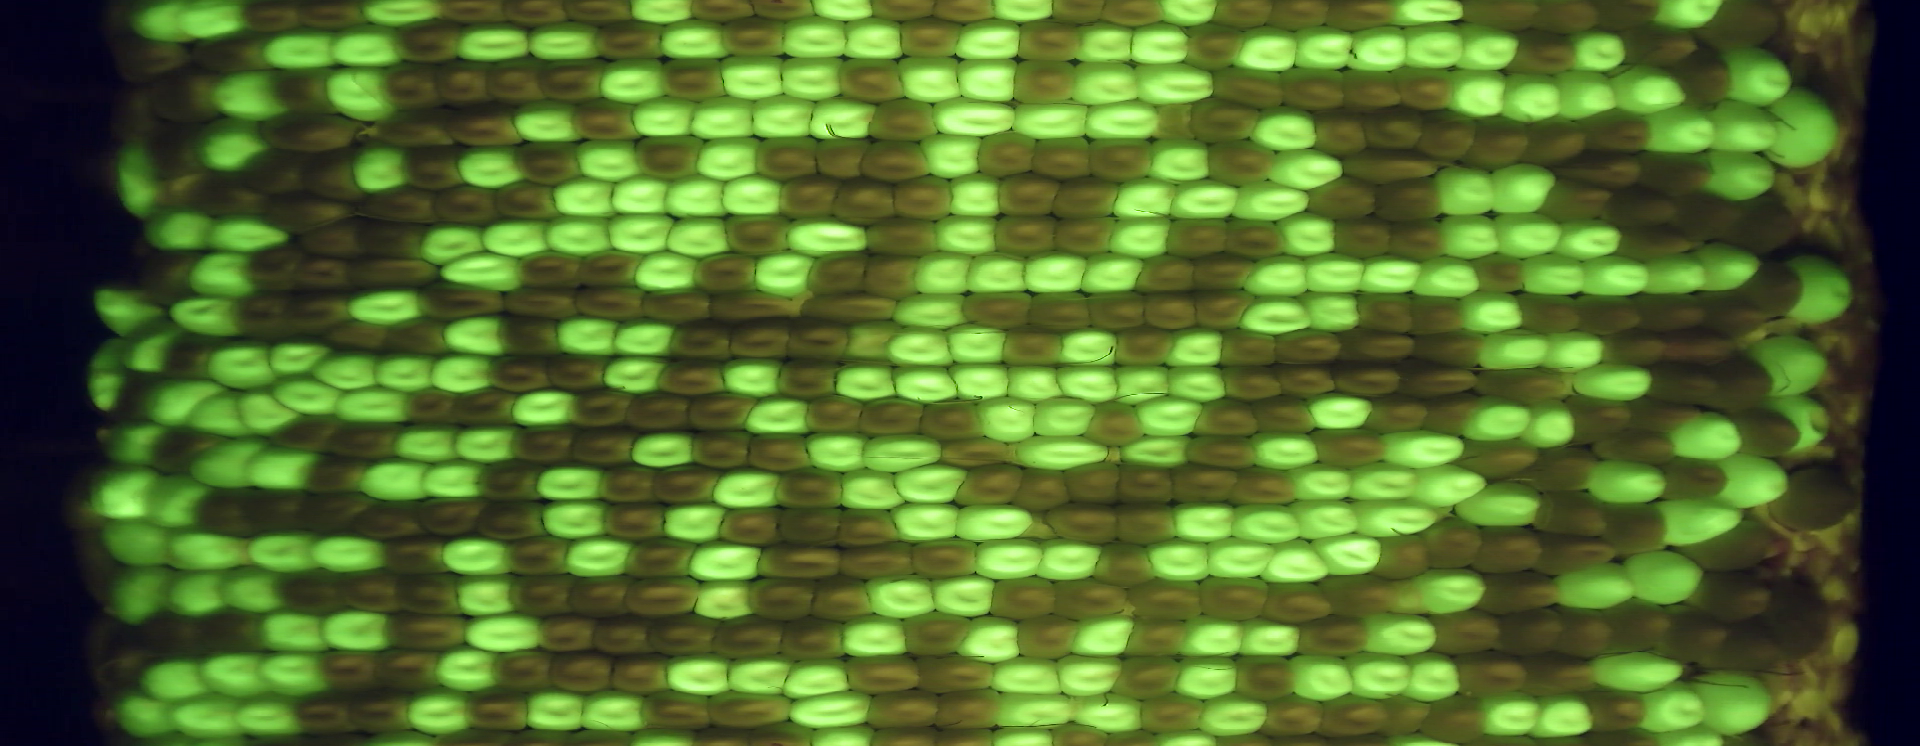fluorescent: (1762, 82, 1844, 176), (1778, 249, 1864, 336), (1615, 543, 1711, 612), (1685, 665, 1777, 737), (1586, 641, 1695, 701), (1741, 331, 1833, 401), (1649, 489, 1749, 551), (100, 557, 184, 630), (1548, 556, 1643, 619), (80, 277, 173, 341), (1664, 405, 1753, 472), (1581, 451, 1676, 512), (186, 430, 274, 496), (83, 459, 167, 529), (107, 137, 171, 225), (1709, 450, 1798, 514), (135, 367, 224, 430), (135, 465, 212, 537), (157, 523, 257, 577), (320, 62, 403, 127), (191, 111, 274, 176), (1605, 58, 1689, 122), (1451, 479, 1549, 534), (208, 64, 295, 125), (459, 604, 553, 660), (165, 686, 253, 746), (201, 334, 285, 397), (400, 679, 485, 741), (211, 561, 300, 620), (1706, 91, 1787, 156), (1716, 47, 1798, 110), (1638, 100, 1725, 160), (190, 648, 280, 706), (1356, 608, 1446, 665), (1373, 423, 1473, 474), (1347, 492, 1447, 544), (313, 603, 404, 659), (430, 246, 531, 296), (1631, 677, 1714, 739), (324, 379, 419, 432), (94, 514, 182, 572), (227, 688, 318, 744), (105, 685, 191, 744), (1764, 390, 1838, 458), (779, 684, 880, 733), (98, 412, 178, 474), (774, 648, 855, 709), (1702, 145, 1783, 206), (1457, 388, 1538, 450), (113, 314, 189, 379), (984, 649, 1074, 704), (504, 91, 587, 151), (860, 426, 953, 479), (1408, 458, 1491, 517), (1438, 62, 1517, 124), (658, 647, 742, 704), (1011, 430, 1116, 477), (1286, 20, 1368, 78), (178, 380, 255, 442), (242, 443, 329, 499), (260, 22, 344, 78), (951, 612, 1036, 669), (876, 318, 964, 372), (200, 209, 296, 258), (1129, 59, 1221, 110), (1409, 562, 1491, 620), (1487, 205, 1570, 261), (324, 20, 411, 73), (1223, 20, 1308, 75), (1485, 159, 1561, 220), (1427, 162, 1504, 222), (1283, 649, 1360, 709), (182, 247, 264, 304), (253, 646, 336, 702), (779, 212, 876, 260), (435, 309, 520, 363), (860, 570, 945, 624), (135, 652, 220, 706), (1062, 688, 1156, 737), (1342, 647, 1420, 706), (356, 452, 436, 510), (1450, 16, 1524, 77), (1691, 238, 1767, 298), (682, 533, 767, 587), (437, 530, 522, 584), (305, 529, 396, 579), (1244, 100, 1326, 156), (1081, 96, 1167, 148), (163, 292, 249, 344), (160, 563, 239, 621), (431, 638, 504, 699), (984, 687, 1084, 733), (135, 202, 222, 254), (252, 606, 339, 658), (229, 380, 305, 439), (1341, 20, 1417, 78), (534, 492, 615, 548), (574, 684, 655, 739), (1515, 247, 1596, 303), (884, 289, 980, 336), (1224, 179, 1318, 227), (1068, 58, 1150, 111), (1060, 610, 1142, 664), (1496, 69, 1571, 127), (595, 51, 675, 107), (452, 141, 535, 194), (545, 310, 628, 363), (80, 333, 132, 416), (950, 500, 1040, 549), (894, 51, 970, 109), (949, 54, 1025, 111), (1282, 492, 1369, 543), (713, 169, 793, 223), (887, 496, 967, 550), (970, 532, 1051, 586), (1049, 649, 1130, 703), (1471, 326, 1555, 377), (1569, 359, 1662, 405), (1163, 495, 1245, 548), (715, 51, 795, 105), (802, 91, 882, 145), (410, 219, 493, 271), (776, 51, 852, 108), (928, 93, 1022, 138), (1140, 534, 1217, 589), (572, 134, 650, 187), (1173, 609, 1251, 663), (242, 528, 324, 579), (1264, 145, 1349, 194), (776, 10, 856, 62), (560, 530, 639, 583), (549, 170, 624, 225), (522, 17, 605, 67), (888, 459, 971, 510), (1227, 499, 1310, 549), (1435, 207, 1506, 266), (684, 92, 765, 143), (689, 131, 767, 185), (704, 465, 785, 517), (1029, 534, 1109, 586), (1238, 249, 1315, 303), (1144, 132, 1217, 189), (392, 416, 470, 469), (1247, 424, 1325, 477), (1553, 65, 1620, 126), (478, 213, 560, 263), (340, 282, 429, 328), (538, 211, 623, 258), (931, 209, 1008, 262), (1164, 175, 1245, 225), (1575, 252, 1656, 303), (1200, 533, 1281, 583), (448, 20, 538, 65), (1009, 99, 1098, 145), (348, 138, 415, 198), (1400, 646, 1467, 706), (1516, 397, 1584, 456), (1344, 454, 1423, 506), (627, 89, 702, 143), (451, 568, 525, 622), (1548, 212, 1630, 261), (1019, 245, 1095, 298), (309, 345, 384, 398), (800, 426, 876, 479), (122, 1, 202, 51), (1166, 650, 1245, 701), (1195, 691, 1275, 741), (1114, 426, 1202, 472), (1400, 15, 1464, 76), (629, 246, 707, 298), (1104, 174, 1183, 224), (662, 212, 741, 262), (606, 312, 684, 363), (421, 349, 500, 399), (1637, 249, 1716, 299), (831, 314, 906, 366), (1527, 688, 1602, 741), (748, 89, 819, 145), (924, 570, 1000, 621), (885, 360, 965, 409), (916, 129, 988, 183), (909, 245, 981, 299), (1071, 247, 1149, 298), (661, 171, 738, 222), (1025, 391, 1102, 441), (1353, 249, 1430, 299), (1298, 249, 1375, 299), (948, 13, 1021, 66), (606, 169, 680, 222), (1236, 292, 1316, 339), (1284, 459, 1365, 507), (1270, 207, 1344, 258), (602, 209, 681, 258), (262, 334, 340, 383), (1309, 530, 1387, 579), (1236, 611, 1307, 665), (531, 458, 613, 505), (598, 349, 673, 399), (369, 348, 444, 398), (271, 371, 347, 421), (1104, 212, 1177, 265), (749, 246, 822, 299), (655, 15, 735, 62), (624, 424, 704, 472), (1303, 387, 1382, 435), (1054, 323, 1128, 375), (1051, 360, 1128, 409), (451, 418, 528, 467), (1411, 254, 1488, 303), (1261, 537, 1335, 588), (1455, 285, 1524, 339), (940, 318, 1015, 369), (834, 465, 909, 516), (509, 385, 588, 432), (1131, 392, 1210, 440), (1125, 17, 1191, 73), (959, 247, 1035, 296), (945, 356, 1021, 405), (722, 648, 795, 699), (1476, 687, 1548, 739), (970, 391, 1037, 446), (742, 393, 822, 440), (519, 684, 588, 737), (829, 355, 902, 405), (1537, 327, 1611, 376), (1002, 359, 1074, 409), (716, 353, 791, 401), (658, 501, 733, 548), (415, 454, 489, 502), (691, 575, 760, 625), (838, 612, 912, 659), (1109, 360, 1177, 412), (1297, 285, 1365, 336), (944, 169, 1007, 224), (1564, 23, 1626, 78), (840, 12, 907, 62), (175, 1, 249, 47), (1158, 361, 1233, 405), (1071, 20, 1136, 69), (1161, 321, 1227, 369), (358, 1, 448, 31), (1651, 1, 1729, 34), (1389, 1, 1476, 31), (623, 1, 697, 29), (1155, 1, 1227, 29), (986, 1, 1060, 28), (802, 1, 879, 24)
nonfluorescent: (1763, 463, 1865, 537), (1758, 570, 1836, 666), (1675, 516, 1790, 578), (144, 119, 216, 209), (255, 105, 369, 159), (1329, 141, 1450, 190), (360, 100, 465, 157), (1720, 191, 1807, 257), (1589, 499, 1678, 563), (264, 563, 359, 624), (1120, 567, 1211, 628), (1689, 566, 1779, 627), (253, 189, 364, 239), (1526, 527, 1621, 584), (59, 528, 127, 608), (1600, 593, 1680, 661), (100, 33, 197, 89), (144, 64, 229, 127), (129, 246, 213, 310), (408, 276, 514, 326), (1569, 103, 1659, 162), (1704, 349, 1780, 419), (1702, 619, 1788, 680), (376, 608, 478, 659), (1652, 601, 1734, 665), (1667, 185, 1749, 249), (1442, 648, 1533, 706), (440, 99, 535, 153), (389, 567, 475, 627), (1735, 254, 1809, 323), (1631, 146, 1722, 202), (1460, 111, 1538, 176), (640, 609, 729, 666), (184, 168, 276, 223), (1611, 18, 1703, 73), (1663, 39, 1735, 109), (189, 605, 276, 663), (1559, 390, 1642, 450), (1309, 570, 1400, 625), (1594, 180, 1685, 235), (702, 686, 801, 736), (1298, 421, 1397, 472), (339, 250, 446, 296), (141, 424, 230, 479), (181, 29, 279, 80), (1476, 566, 1569, 619), (793, 285, 904, 330), (353, 179, 447, 230), (1009, 609, 1090, 669), (1199, 135, 1284, 191), (1227, 646, 1304, 708), (1700, 1, 1789, 55), (1728, 401, 1806, 462), (1391, 356, 1489, 405), (707, 610, 790, 668), (129, 606, 212, 664), (290, 486, 377, 541), (909, 650, 999, 703), (1531, 485, 1615, 541), (185, 480, 262, 541), (375, 530, 460, 586), (1452, 435, 1544, 486), (824, 171, 906, 229), (948, 459, 1030, 517), (1515, 113, 1597, 170), (780, 311, 858, 371), (1384, 61, 1462, 121), (1468, 365, 1575, 409), (620, 568, 703, 625), (376, 311, 463, 365), (1406, 105, 1480, 168), (1548, 147, 1651, 192), (804, 571, 885, 628), (773, 500, 855, 556), (425, 176, 511, 230), (634, 684, 720, 737), (1520, 648, 1605, 702), (1551, 599, 1620, 666), (749, 538, 849, 584), (298, 145, 369, 209), (1004, 51, 1082, 110), (765, 464, 855, 516), (533, 53, 616, 108), (377, 55, 451, 118), (982, 211, 1065, 266), (895, 608, 978, 663), (1467, 524, 1550, 579), (387, 13, 467, 71), (1176, 20, 1255, 77), (861, 96, 948, 148), (617, 530, 704, 583), (841, 650, 928, 703), (313, 642, 389, 702), (267, 64, 348, 120), (491, 306, 572, 363), (460, 684, 541, 740), (1275, 62, 1356, 119), (855, 212, 945, 262), (703, 285, 812, 327), (1693, 282, 1771, 341), (1205, 62, 1293, 114), (684, 246, 767, 301), (1109, 650, 1191, 706), (347, 213, 432, 266), (904, 533, 989, 586), (1160, 458, 1245, 511), (1058, 452, 1130, 514), (1652, 323, 1746, 371), (1641, 359, 1730, 409), (365, 646, 448, 699), (80, 610, 136, 690), (1303, 169, 1382, 225), (1302, 103, 1378, 162), (100, 77, 167, 145), (566, 94, 650, 147), (1622, 390, 1707, 442), (1082, 130, 1160, 187), (1626, 285, 1714, 336), (587, 12, 669, 66), (629, 130, 711, 184), (278, 288, 360, 342), (500, 570, 582, 624), (1424, 605, 1506, 659), (1109, 494, 1188, 550), (749, 132, 829, 187), (471, 454, 551, 510), (648, 457, 727, 512), (741, 573, 820, 628), (343, 684, 422, 739), (264, 405, 348, 458), (322, 416, 411, 465), (835, 538, 924, 587), (1220, 211, 1296, 268), (476, 350, 563, 401), (471, 497, 558, 548), (289, 212, 370, 266), (1247, 390, 1327, 443), (235, 146, 312, 202), (1131, 688, 1216, 740), (927, 685, 1011, 736), (1506, 288, 1591, 339), (1329, 322, 1419, 370), (444, 382, 527, 435), (497, 532, 579, 584), (1653, 456, 1735, 508), (1176, 428, 1264, 477), (1332, 60, 1411, 115), (1611, 219, 1697, 269), (887, 170, 961, 228), (1356, 100, 1430, 158), (562, 570, 642, 624), (1494, 608, 1573, 661), (863, 684, 947, 735), (1313, 688, 1396, 740), (774, 612, 850, 669), (855, 246, 924, 307), (509, 245, 596, 294), (955, 285, 1042, 334), (508, 134, 589, 186), (1044, 173, 1125, 225), (1046, 499, 1127, 551), (1184, 92, 1265, 145), (835, 51, 912, 107), (771, 170, 849, 225), (1116, 610, 1193, 665), (568, 279, 653, 330), (244, 481, 317, 539), (1418, 514, 1491, 572), (713, 501, 791, 555), (1052, 571, 1130, 625), (851, 390, 933, 441), (984, 575, 1067, 626), (480, 53, 555, 109), (396, 138, 470, 195), (430, 53, 498, 114), (1160, 212, 1239, 265), (618, 383, 698, 436), (227, 292, 302, 347), (348, 495, 431, 545), (411, 492, 495, 543), (1296, 608, 1373, 661), (1193, 570, 1270, 624), (1502, 28, 1580, 82), (917, 394, 996, 447), (585, 609, 664, 661), (853, 137, 939, 185), (1024, 285, 1103, 337), (932, 429, 1018, 477), (1409, 323, 1495, 371), (331, 563, 407, 617), (716, 209, 800, 258), (660, 314, 741, 364), (767, 354, 847, 404), (288, 688, 369, 739), (1524, 443, 1605, 494), (1537, 176, 1618, 227), (1025, 130, 1098, 185), (1187, 283, 1265, 334), (544, 646, 618, 699), (485, 646, 560, 699), (800, 246, 876, 299), (487, 176, 567, 227), (1369, 175, 1449, 225), (51, 474, 113, 539), (563, 421, 640, 473), (1598, 325, 1679, 374), (655, 56, 733, 107), (1187, 394, 1265, 445), (1011, 15, 1086, 67), (1104, 318, 1179, 371), (1575, 289, 1649, 342), (650, 353, 735, 399), (1325, 359, 1409, 405), (154, 330, 225, 385), (235, 243, 311, 294), (1260, 579, 1340, 628), (1090, 539, 1162, 593), (1329, 213, 1401, 267), (634, 285, 722, 330), (1592, 426, 1682, 469), (1420, 688, 1488, 746), (1009, 463, 1078, 519), (740, 429, 820, 477), (1347, 288, 1422, 339), (1255, 691, 1333, 740), (1227, 462, 1305, 511), (103, 367, 165, 429), (1079, 399, 1155, 450), (894, 10, 966, 62), (993, 170, 1065, 223), (1130, 247, 1202, 300), (560, 385, 639, 432), (684, 388, 764, 436), (1183, 247, 1262, 295), (715, 13, 792, 62), (1139, 285, 1207, 341), (1111, 459, 1184, 511), (1385, 213, 1453, 268), (296, 451, 375, 499), (1358, 390, 1436, 437), (500, 282, 587, 325), (542, 348, 615, 399), (831, 506, 911, 552), (1583, 685, 1652, 739), (1403, 285, 1472, 339), (504, 420, 578, 470), (971, 127, 1041, 180), (571, 247, 651, 293), (591, 458, 666, 507), (996, 318, 1067, 370), (1267, 358, 1346, 404), (1211, 359, 1289, 405), (686, 428, 758, 478), (726, 315, 800, 364), (1420, 387, 1485, 442), (397, 383, 468, 434), (1081, 288, 1153, 337), (535, 609, 604, 660), (1267, 326, 1349, 369), (601, 499, 675, 546), (605, 649, 675, 699), (801, 390, 872, 439), (1049, 212, 1124, 258), (1368, 530, 1435, 582), (1455, 1, 1551, 37), (288, 251, 360, 298), (809, 134, 876, 184), (1213, 325, 1284, 371), (1520, 1, 1607, 39), (320, 317, 399, 356), (1469, 249, 1533, 298), (1378, 688, 1438, 740), (1321, 1, 1404, 38), (80, 692, 137, 741), (291, 1, 373, 36), (1587, 1, 1663, 37), (241, 1, 313, 38), (1262, 1, 1340, 36), (1093, 1, 1173, 33), (1205, 1, 1280, 34), (431, 1, 516, 29), (96, 1, 143, 49), (560, 1, 638, 29), (497, 1, 574, 29), (924, 1, 1003, 28), (684, 1, 760, 26), (860, 1, 939, 24), (92, 143, 122, 202), (1044, 1, 1109, 28), (749, 1, 823, 24)
